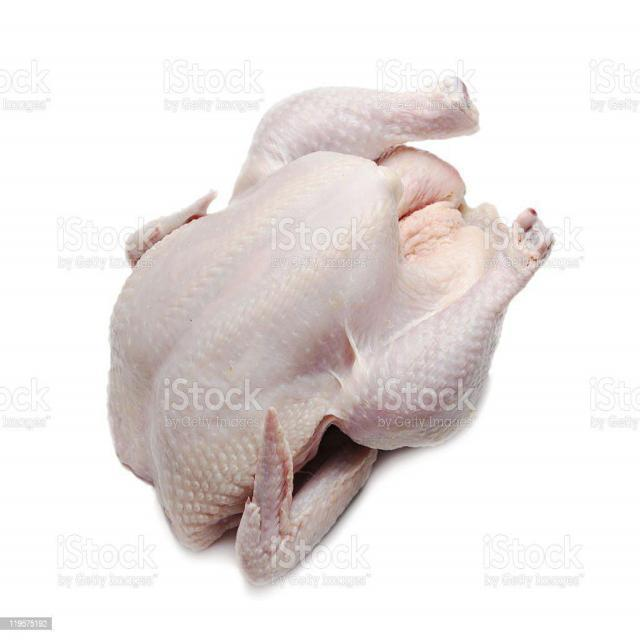Chicken: (104, 77, 556, 590)
